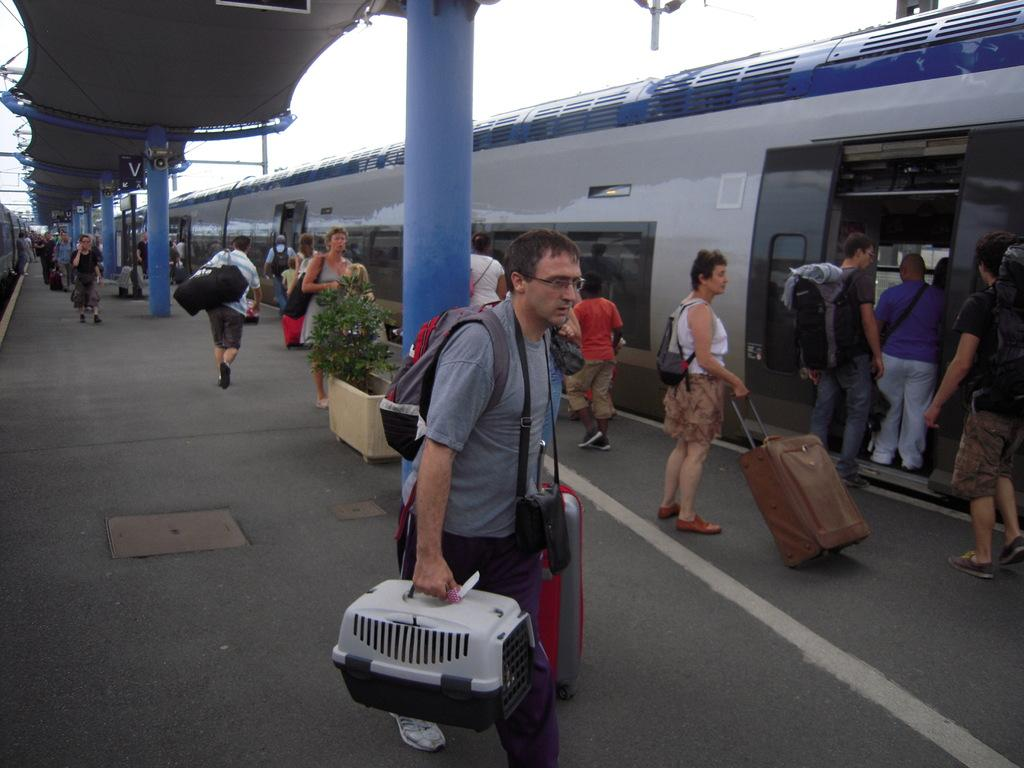Luggage-and-bags: (390, 464, 589, 701), (378, 304, 525, 461), (736, 402, 856, 582), (780, 255, 850, 383), (975, 242, 1023, 417), (649, 300, 721, 388), (172, 241, 253, 315), (871, 278, 932, 360), (283, 255, 326, 317), (868, 383, 899, 443), (468, 254, 497, 298), (262, 243, 296, 275), (282, 311, 309, 348), (122, 262, 144, 294), (50, 267, 66, 289)
